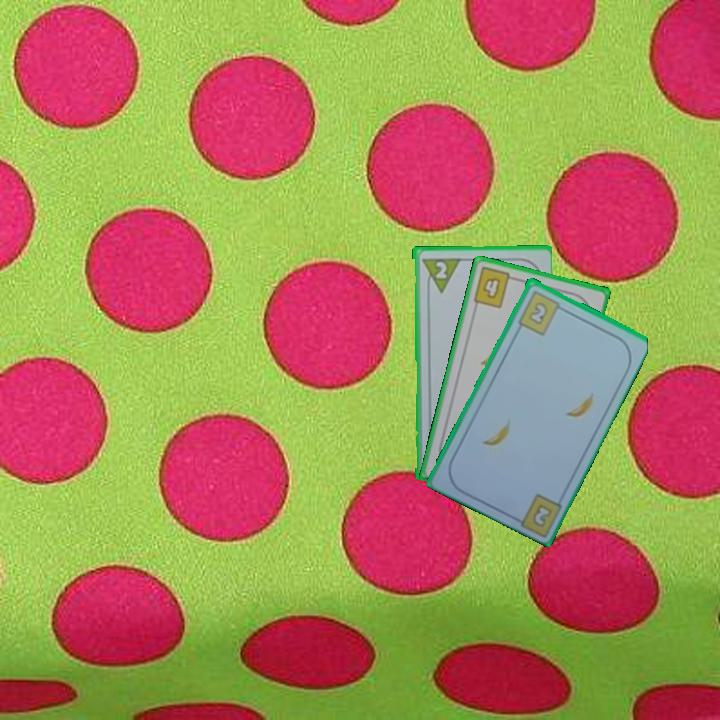2b: (514, 287, 567, 338), (529, 500, 555, 530)
2p: (430, 258, 449, 281)
4b: (469, 263, 520, 311)
